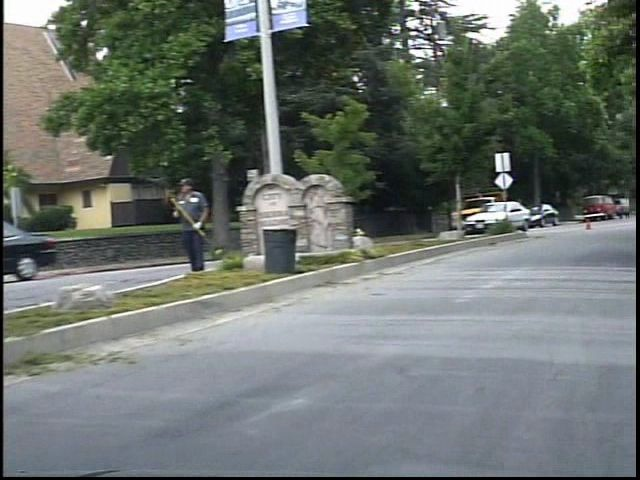person: (182, 172, 224, 275)
